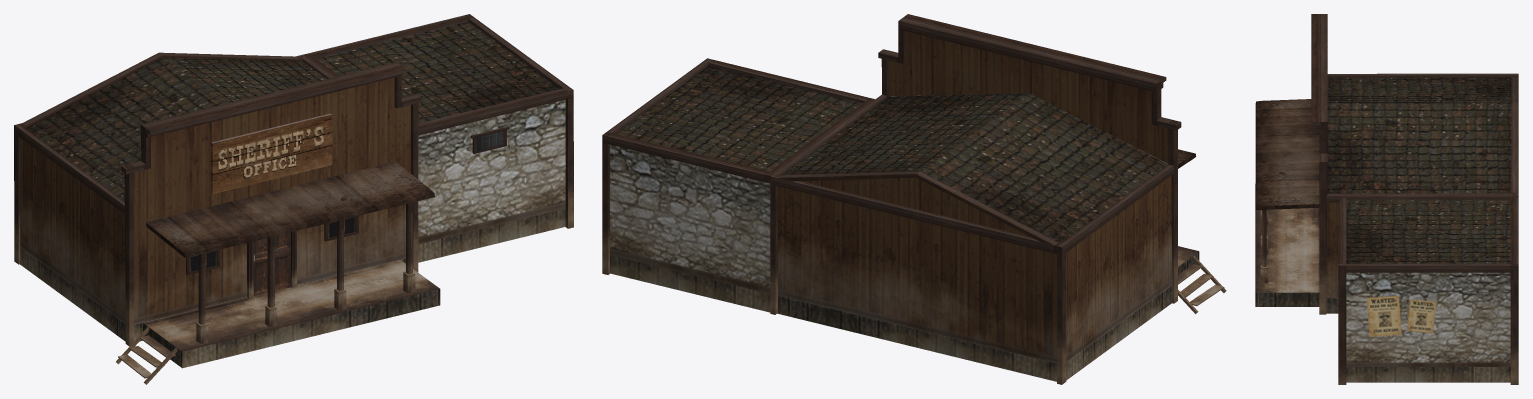
The model's file is SheriffWestern_house_.fbx.
3 views of the same model, side by side, from view 1: azimuth 30°, elevation 25°; view 2: azimuth 150°, elevation 25°; view 3: azimuth 270°, elevation 25° (orthographic). The views are drawn at different scales.
Visible parts, largest first — view 1: Cube, Cube.005, Cube.007, Cube.018, Cube.003, Cube.011, Cube.001, Cube.021, Cube.017, Cube.004, Cube.015, Plane.007 (+6 smaller); view 2: Cube, Cube.005, Cube.017, Cube.011, Cube.001, Cube.015, Cube.021, Cube.012, Cube.020; view 3: Cube.005, Cube, Cube.018, Cube.011, Cube.007, Cube.001, Cube.017, Cube.006, Cube.021, Cube.015, Cube.008, Cube.025 (+2 smaller).
Boxes of the visible parts, x1,y1,x2,y2 form: Cube: (20,57,410,341); Cube.005: (316,21,565,262); Cube.007: (143,260,440,368); Cube.018: (146,161,434,257); Cube.003: (211,113,332,194); Cube.011: (303,14,573,228); Cube.001: (141,62,406,137); Cube.021: (124,103,418,346); Cube.017: (14,54,333,264); Cube.004: (198,202,412,324); Cube.015: (22,52,302,127); Plane.007: (253,232,290,296); Cube: (777,31,1172,381); Cube.005: (610,66,861,312); Cube.017: (770,94,1173,384); Cube.011: (602,58,876,274); Cube.001: (898,14,1166,92); Cube.015: (778,171,1058,245); Cube.021: (881,59,1177,303); Cube.012: (1178,255,1226,313); Cube.020: (878,29,1181,130); Cube.005: (1346,200,1510,382); Cube: (1326,77,1511,313); Cube.018: (1255,99,1319,209); Cube.011: (1338,195,1518,384); Cube.007: (1255,184,1319,306); Cube.001: (1311,14,1327,129); Cube.017: (1326,73,1518,202); Cube.006: (1366,295,1401,336); Cube.021: (1319,166,1327,314); Cube.015: (1511,77,1518,192); Cube.008: (1407,299,1436,333); Cube.025: (1260,209,1268,283).
Bounding box in the file's own units: 12.46 × 5.7 × 6.97.
Materials: 1 (1 with a texture image).
